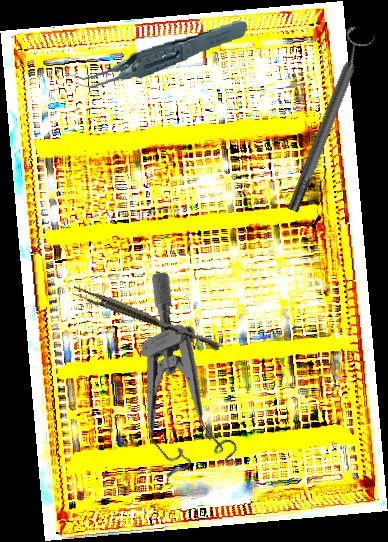Fixation Ring: (276, 25, 379, 216)
Speculum: (84, 268, 258, 497)
Tissue Forceps: (65, 18, 252, 90), (70, 284, 223, 352)
